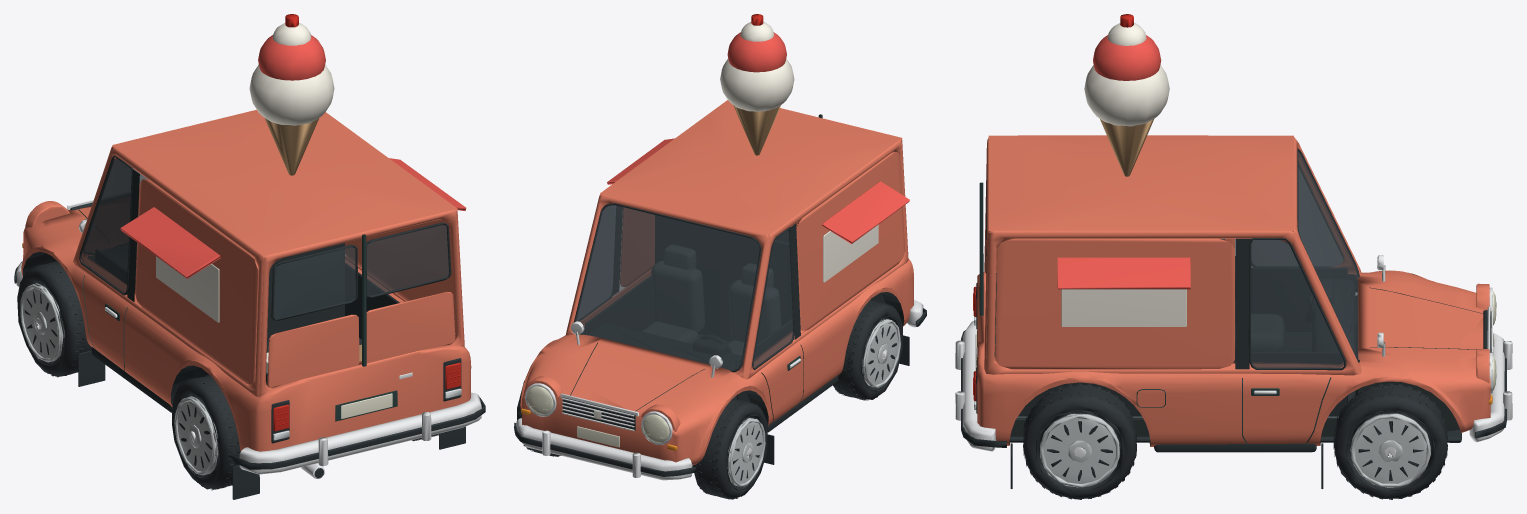
File: gelato_lod2.fbx
The picture shows the model from 3 angles, left to right: view 1: azimuth 30°, elevation 25°; view 2: azimuth 150°, elevation 25°; view 3: azimuth 270°, elevation 25°; orthographic projection. The views are drawn at different scales.
Parts seen in each view (by area): view 1: Body, Wheel_FL_Mesh, Wheel_RL_Mesh; view 2: Body, Wheel_FL_Mesh, Wheel_RL_Mesh; view 3: Body, Wheel_FR_Mesh, Wheel_RR_Mesh.
Part boxes in pixels (x1,y1,x2,y2): Body: [14, 14, 485, 499]; Wheel_FL_Mesh: [17, 261, 91, 377]; Wheel_RL_Mesh: [172, 374, 240, 490]; Body: [514, 14, 926, 480]; Wheel_FL_Mesh: [693, 398, 767, 499]; Wheel_RL_Mesh: [833, 299, 902, 400]; Body: [955, 14, 1512, 488]; Wheel_FR_Mesh: [1333, 383, 1447, 499]; Wheel_RR_Mesh: [1023, 383, 1136, 499].
Size of the model in its own units: 229 by 331 by 391.
